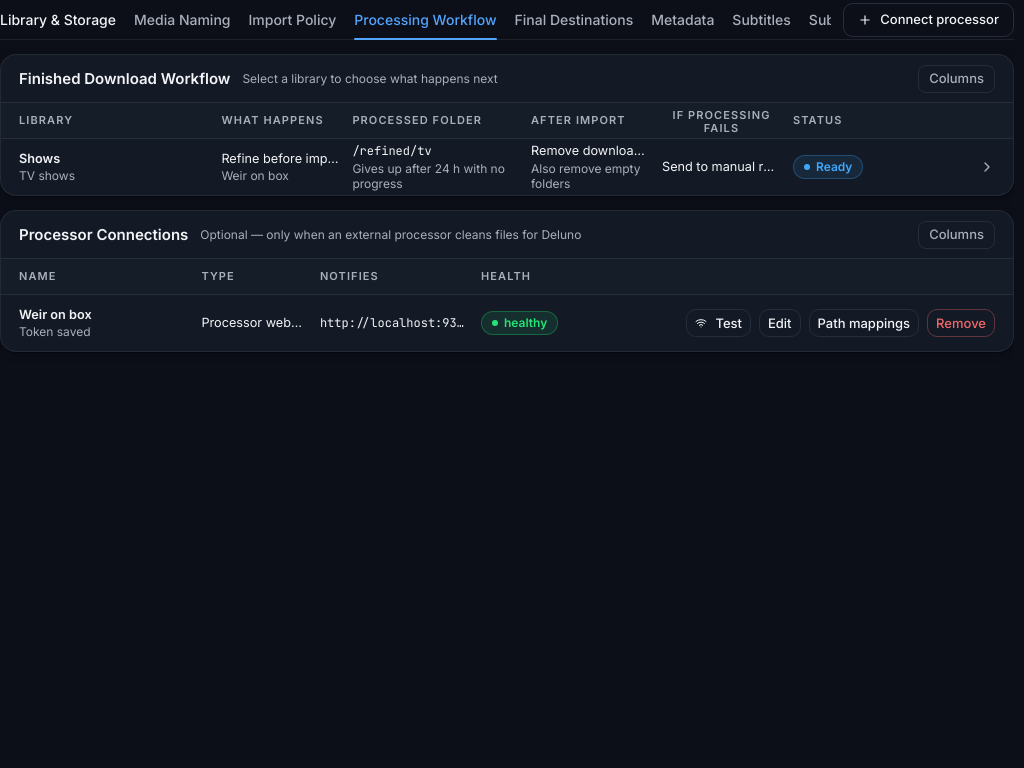
Test: how finished downloads are handled, per library › source cleanup: 'Keep source file' turns the empty-folders switch off and unusable, 'Remove after import' makes it usable
Click the text "Shows": (40, 158) [19,151,60,166]
(page scrolled)
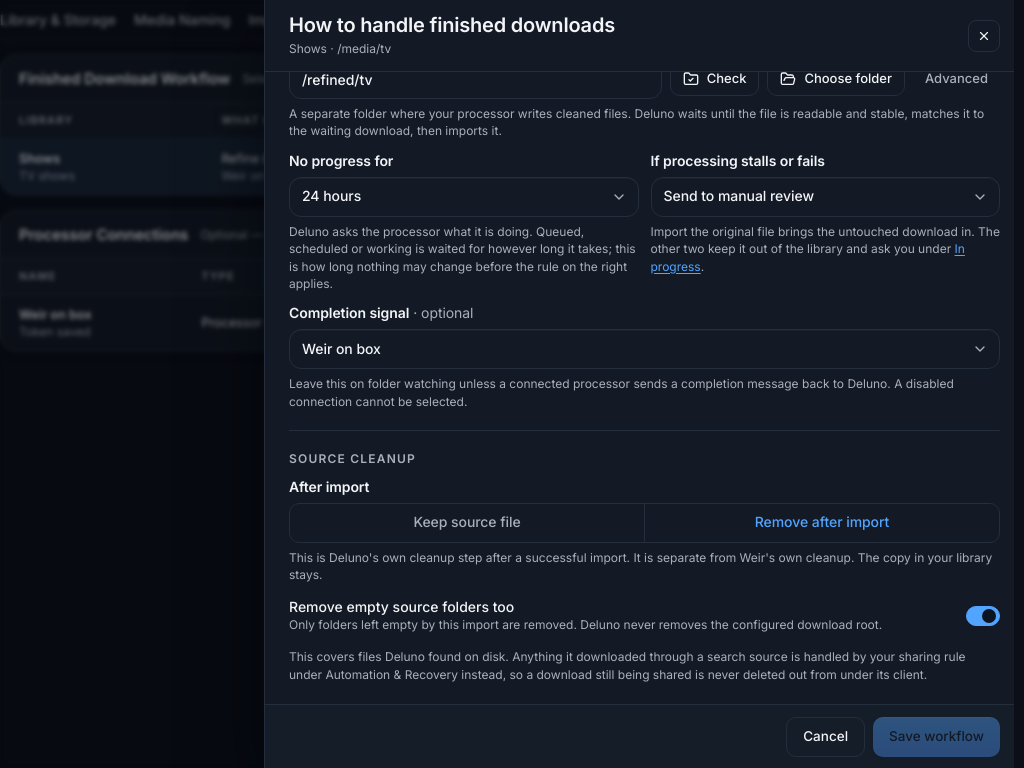
Check: the switch named "Remove empty source folders too" is enabled, box [966,606,1000,626]
Click the radio button labelled "Keep source file": (468, 523) [290,504,645,542]
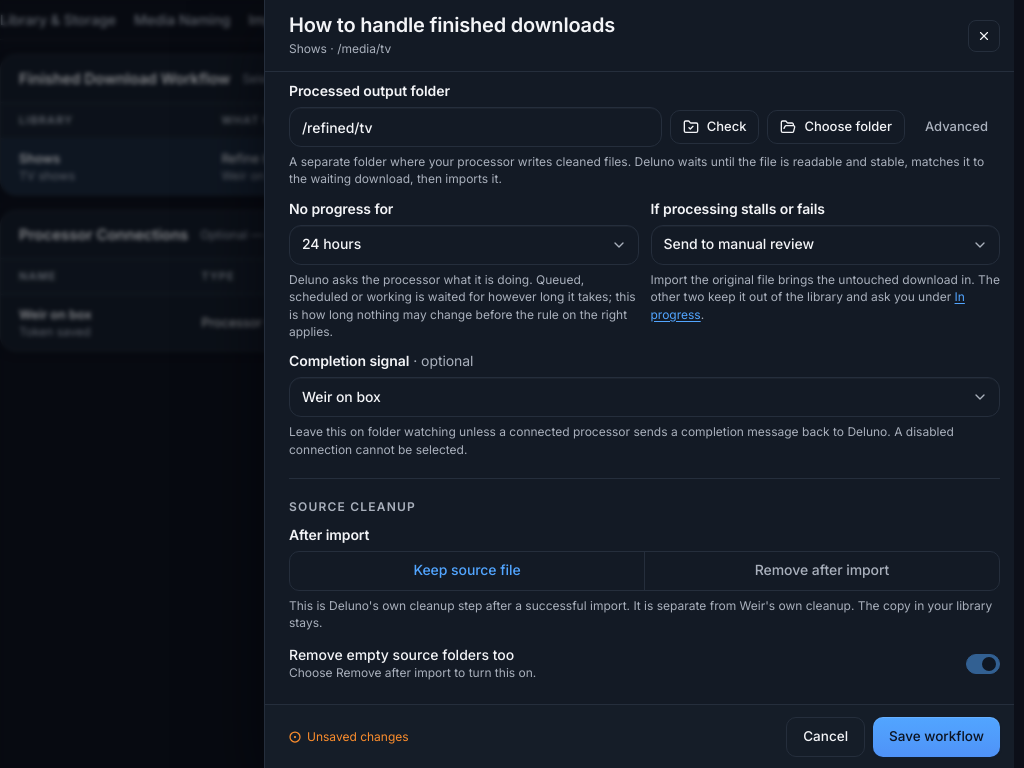
Check: the switch named "Remove empty source folders too" is disabled, box [966,654,1000,674]
Check: the text "Choose Remove after import to turn this on." is shown, box [289,665,536,682]
